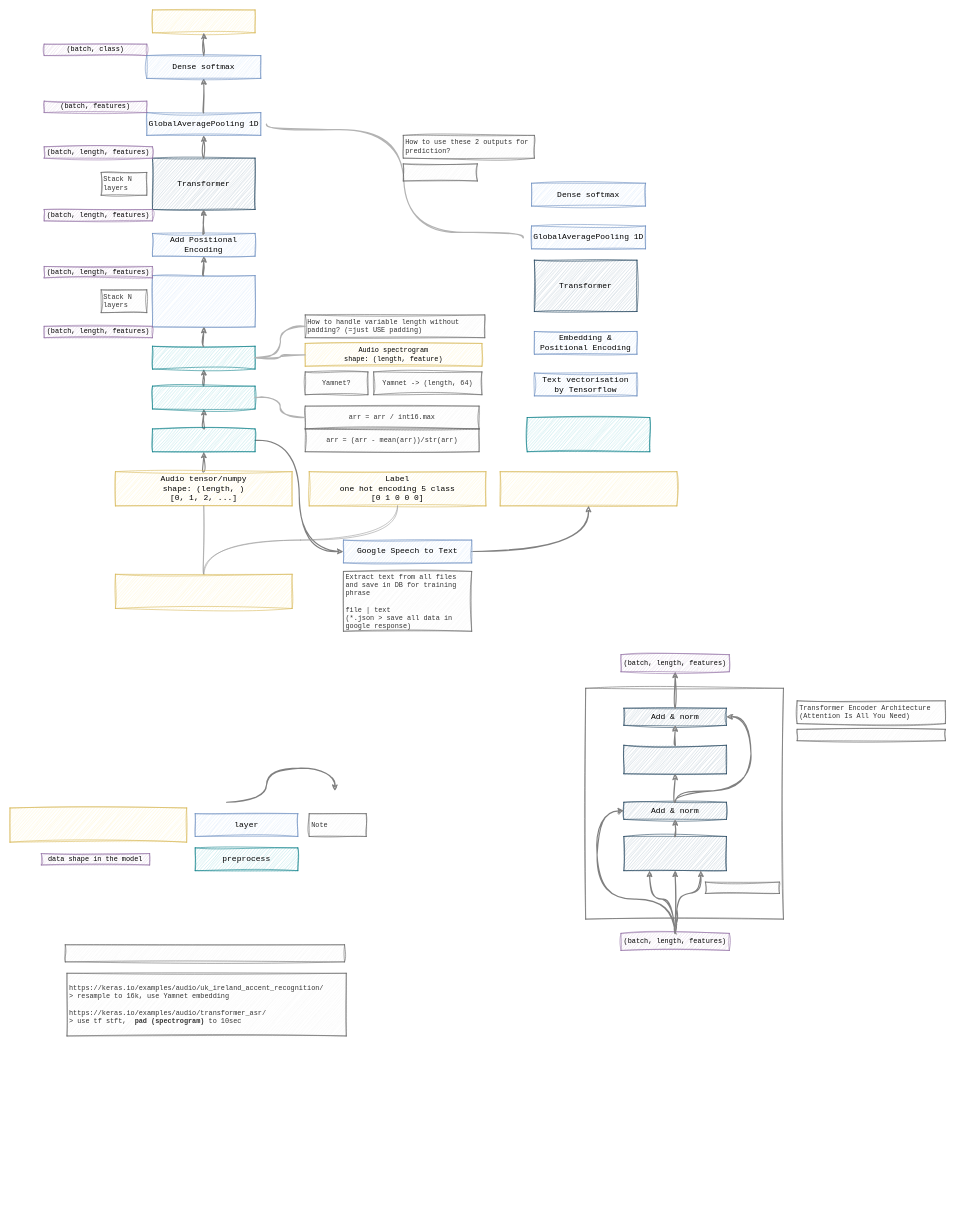
The diagram is 955 pixels wide and 1217 high, and some of its shapes have lost their labels. The shapes that lost their labels are listed below. From the top down, each one's box as (x1, y1, x2, y2) in pixels, then its label:
(152, 9, 255, 33): Pred (one-hot)
(403, 163, 477, 181): Hadamard Product
(152, 275, 255, 327): Conv 1D MaxPool 1D
(152, 346, 255, 369): To spectrogram
(152, 386, 255, 409): normalisation
(152, 428, 255, 452): Resampling rate=16k
(527, 417, 650, 452): Tokenise by PythaiNLP & to text split by ' '
(500, 471, 677, 506): Text
(115, 574, 292, 608): DataFrame (file path, label)
(797, 729, 945, 741): 1 Transformer Layer
(623, 745, 726, 774): Feed Forward
(9, 807, 187, 842): DATA
(623, 836, 726, 871): Multi-headed attention
(705, 882, 779, 893): Query, Key, Value
(65, 944, 345, 962): https://keras.io/examples/nlp/text_classification_with_transformer/
